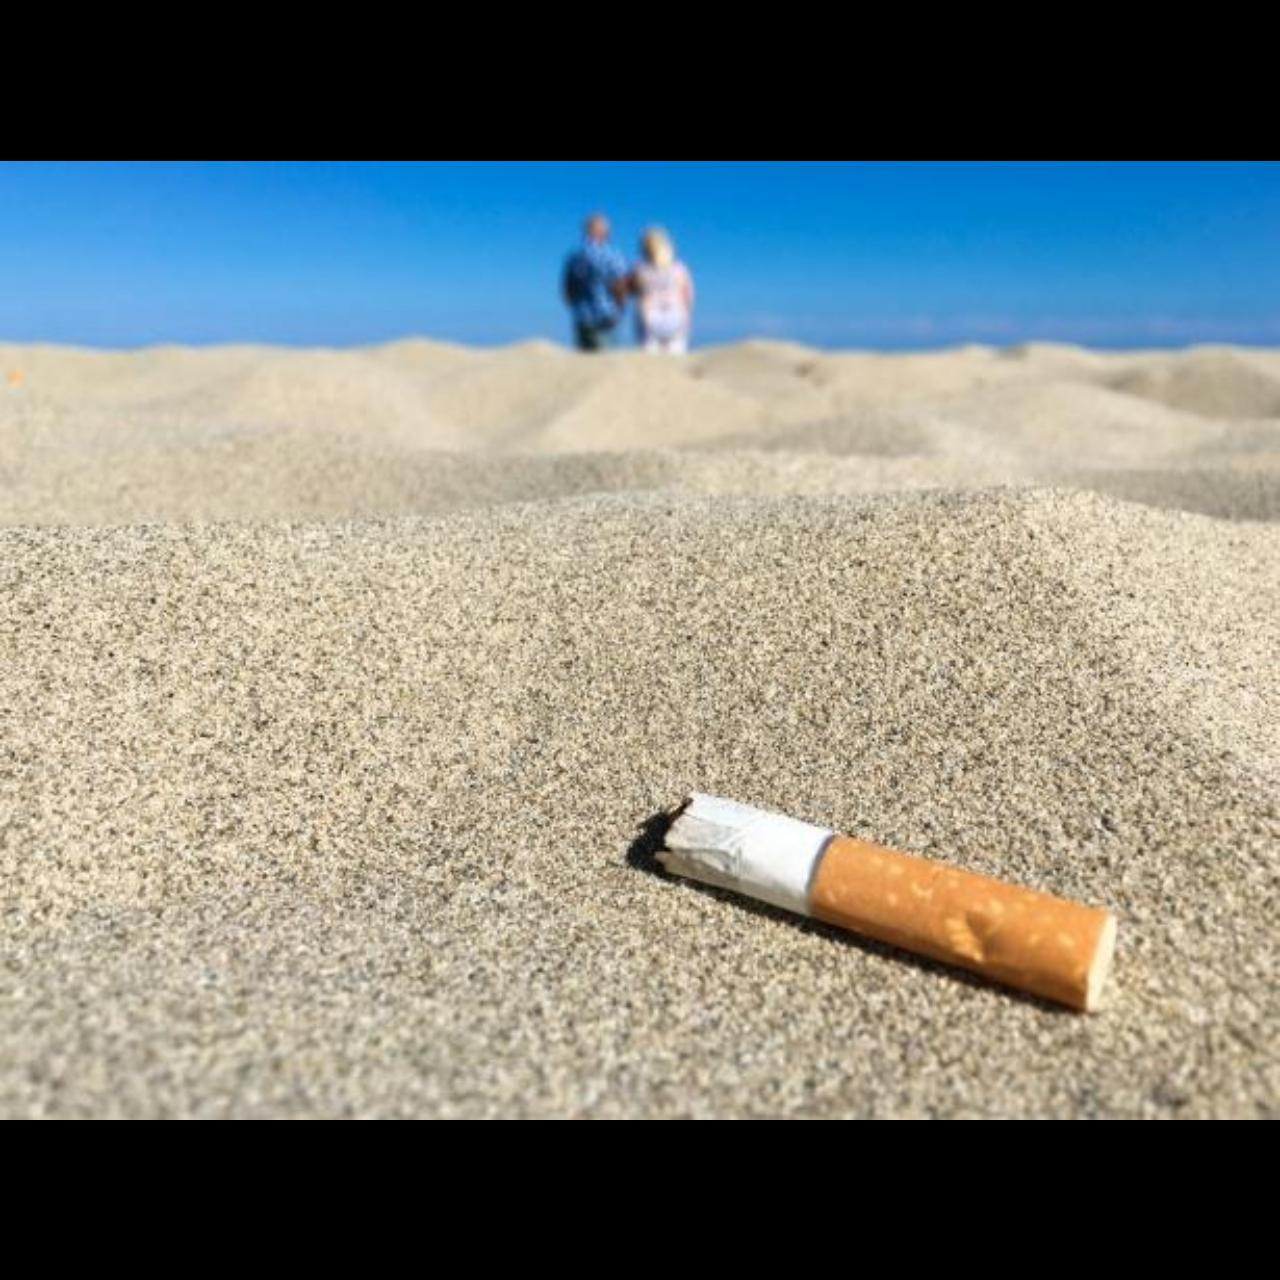cigarettes_butts: (628, 792, 1119, 1013)
